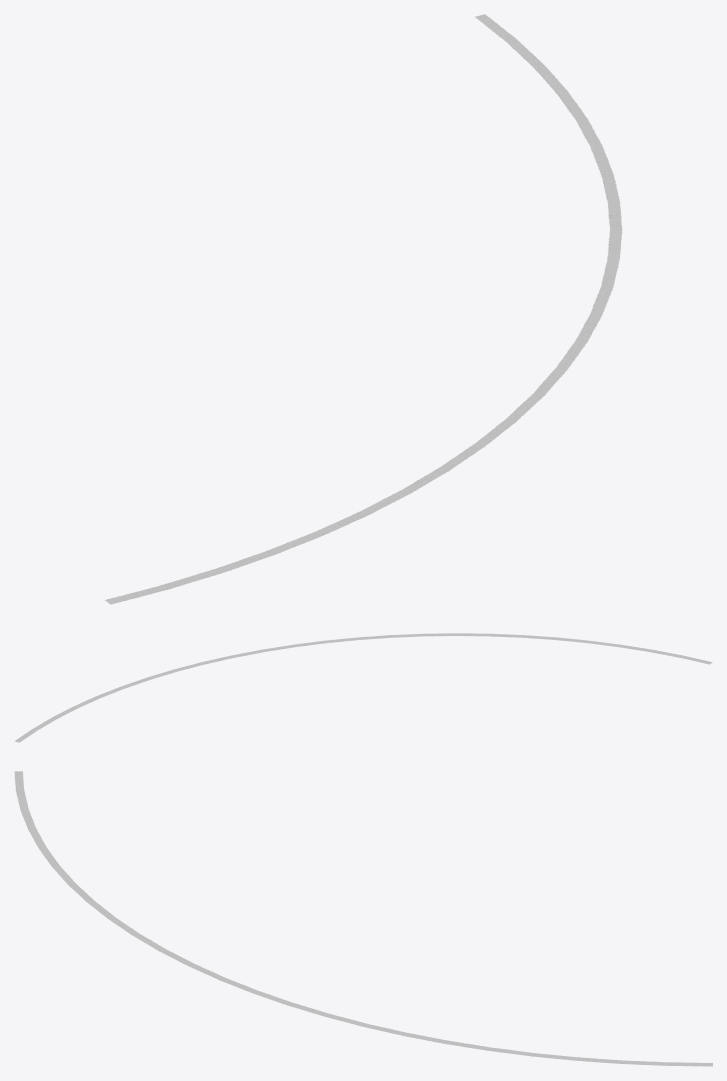
The model's file is Decal_Curve_4LaneShort_Stripe.glb.
3 renders of one model, top to bottom at view 1: azimuth 30°, elevation 25°; view 2: azimuth 150°, elevation 25°; view 3: azimuth 270°, elevation 25°, orthographic. The views are drawn at different scales.
Visible parts, largest first — view 1: Decal_Curve_4LaneShort_Stripe; view 2: Decal_Curve_4LaneShort_Stripe; view 3: Decal_Curve_4LaneShort_Stripe.
Boxes of the visible parts, <box> form: Decal_Curve_4LaneShort_Stripe: <box>105,14,621,604</box>; Decal_Curve_4LaneShort_Stripe: <box>14,633,712,742</box>; Decal_Curve_4LaneShort_Stripe: <box>14,771,712,1066</box>.
Bounding box in the file's own units: 14.8 × 0 × 14.8.
Materials: 1 (1 with a texture image).
